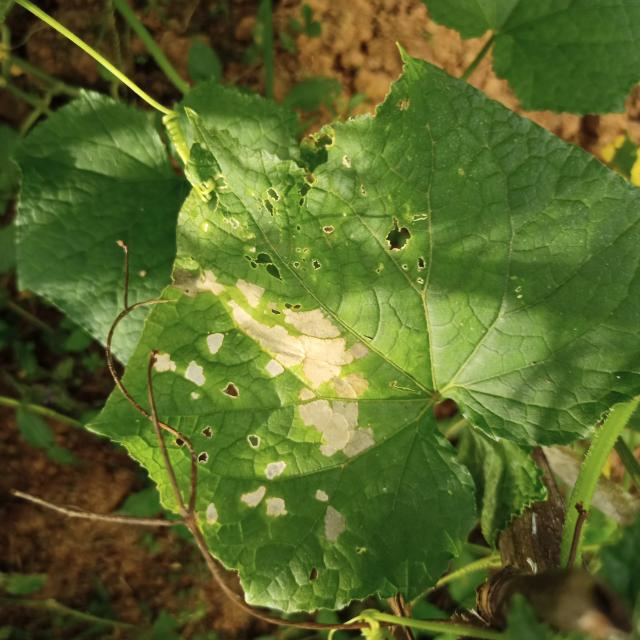disease_cucumber: (151, 265, 378, 544)
